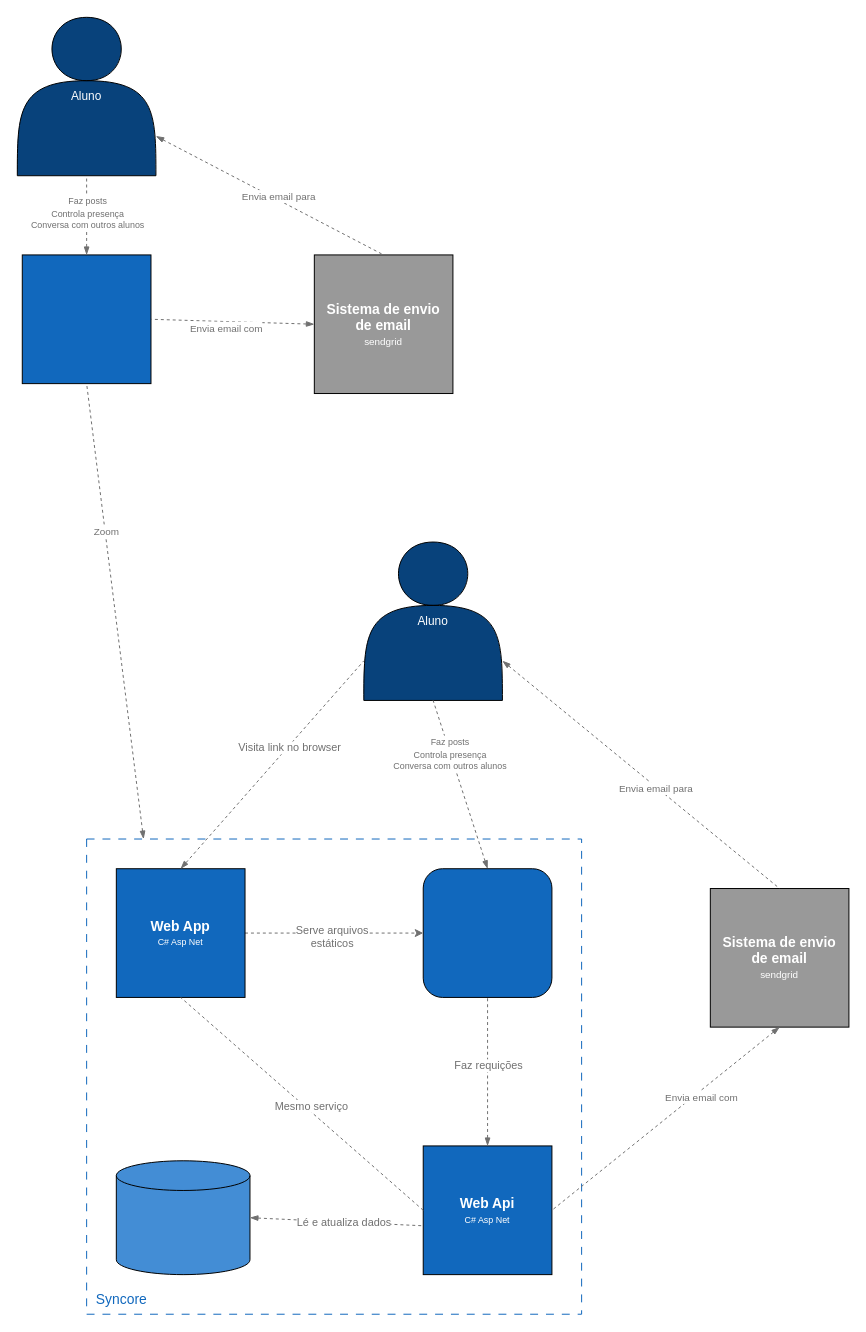
Some shapes in this 866 by 1332 pixel diagram are drawn without their labels. Each missing label, with the centre of its shape:
"Frontend Javascript Vue" goes at point (487, 932).
"Postgres" goes at point (182, 1217).
"Syncore sistema" goes at point (86, 319).
